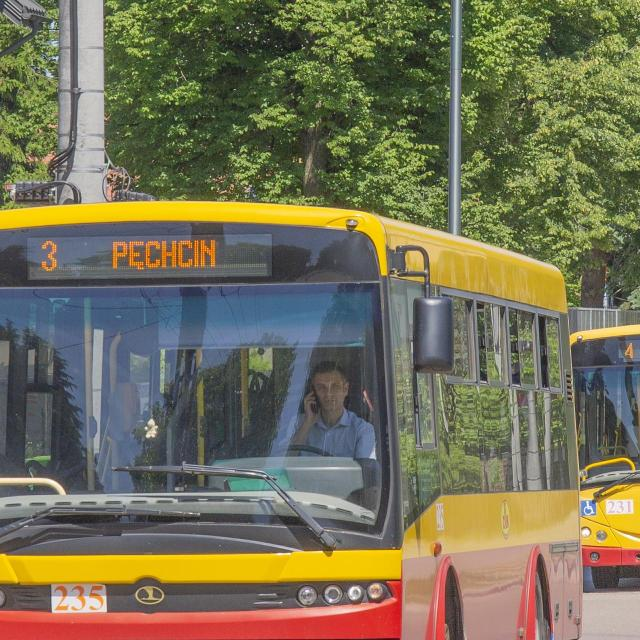Bus: (0, 202, 582, 640)
